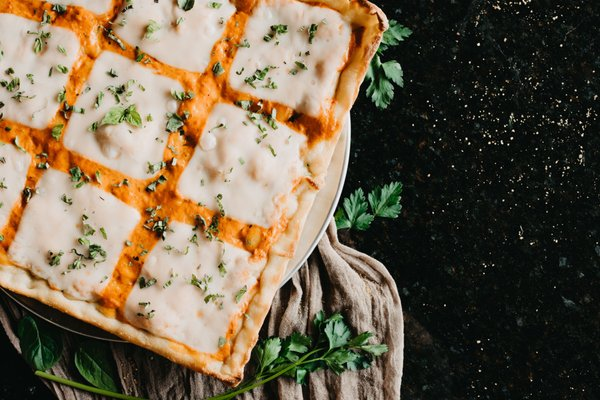sandwich: (0, 0, 398, 386)
